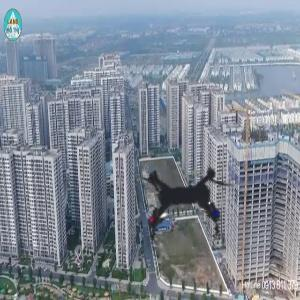drone: (99, 110, 279, 290)
